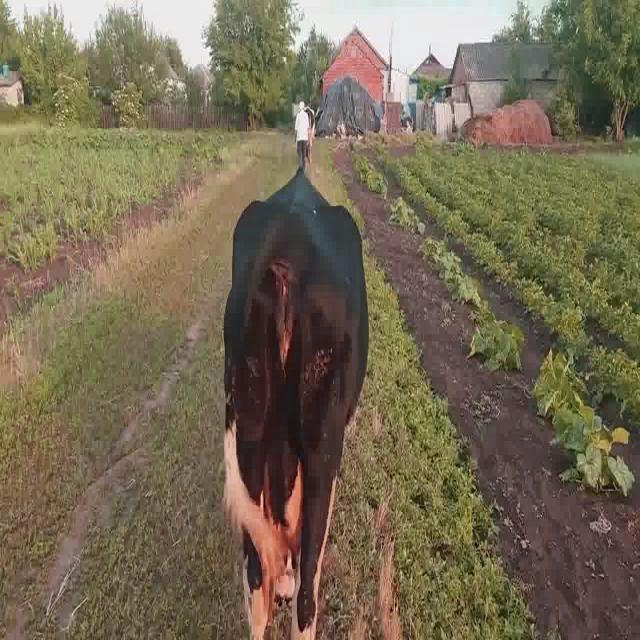cow: (224, 169, 369, 639)
